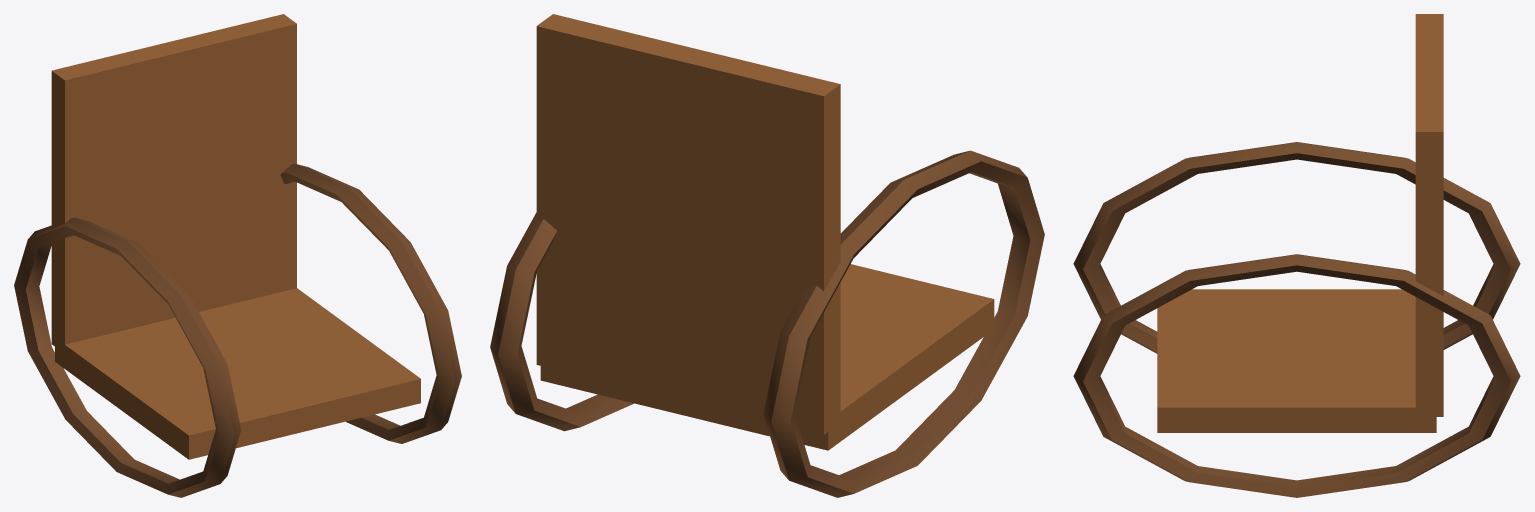
Rendered from grandma_rocker.glb.
3 views of the same model, side by side, from view 1: azimuth 30°, elevation 25°; view 2: azimuth 150°, elevation 25°; view 3: azimuth 270°, elevation 25° (orthographic). The views are drawn at different scales.
Visible parts, largest first — view 1: decor-grandma_rocker; view 2: decor-grandma_rocker; view 3: decor-grandma_rocker.
Part boxes in pixels (bbox=[...]): decor-grandma_rocker: bbox=[14, 14, 461, 497]; decor-grandma_rocker: bbox=[490, 14, 1044, 497]; decor-grandma_rocker: bbox=[1073, 14, 1520, 497].
Bounding box in the file's own units: 0.836 × 1.16 × 1.28.
